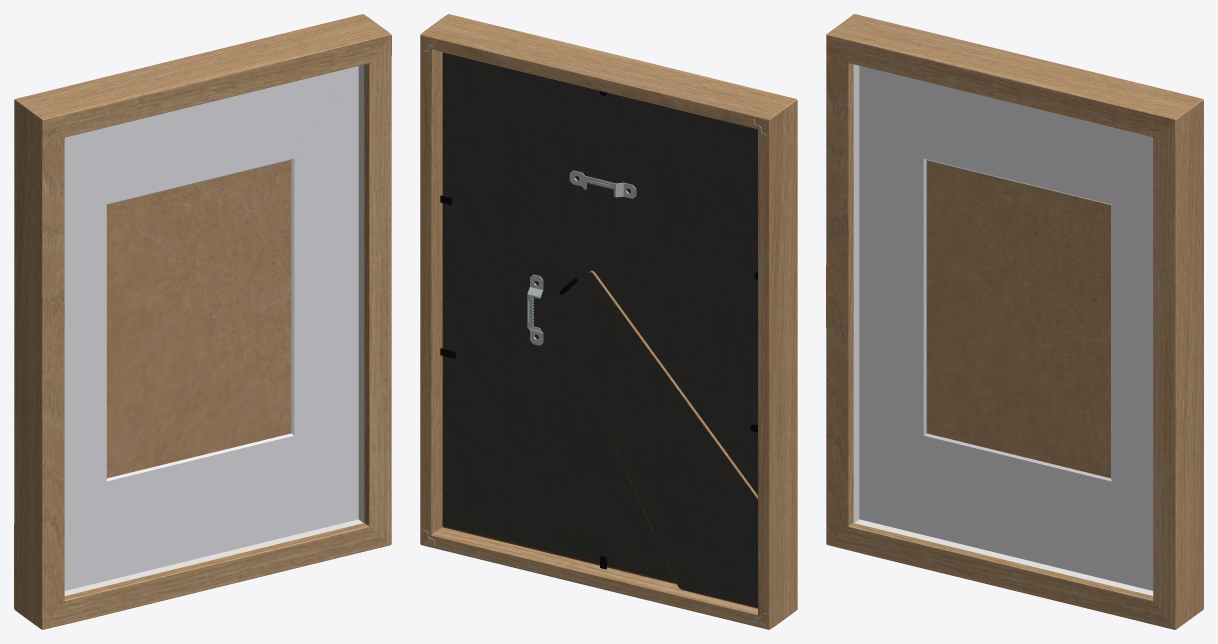
File: rodalm_ramka_50566393.glb
3 views of the same model, side by side, from view 1: azimuth 30°, elevation 25°; view 2: azimuth 150°, elevation 25°; view 3: azimuth 330°, elevation 25° (orthographic).
Visible parts, largest first — view 1: rodalm_ramka_50566393; view 2: rodalm_ramka_50566393; view 3: rodalm_ramka_50566393.
Part boxes in pixels (box(x1,y1,x2,y2)): rodalm_ramka_50566393: box(14, 14, 391, 629); rodalm_ramka_50566393: box(420, 14, 797, 629); rodalm_ramka_50566393: box(826, 14, 1203, 629).
Size of the model in its own units: 0.228 by 0.318 by 0.0322.
2 materials, 2 textured.
